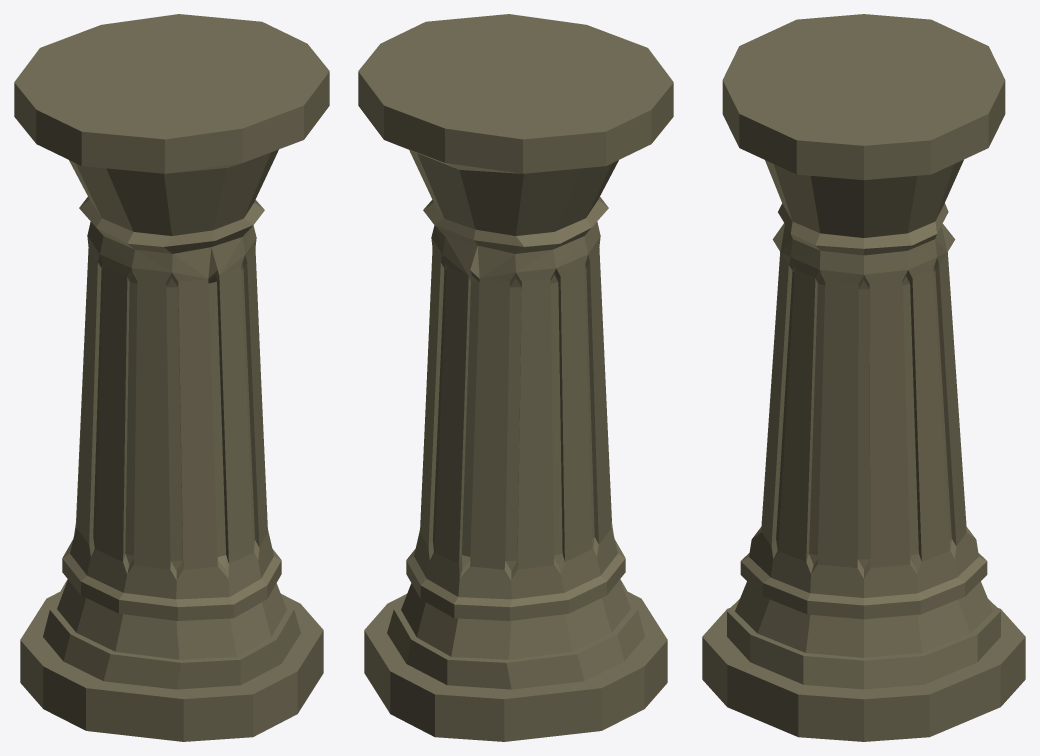
The model's file is Pillar.obj.
The picture shows the model from 3 angles, left to right: view 1: azimuth 30°, elevation 25°; view 2: azimuth 150°, elevation 25°; view 3: azimuth 270°, elevation 25°; orthographic projection.
Parts seen in each view (by area): view 1: Circle; view 2: Circle; view 3: Circle.
Boxes of the visible parts, x1,y1,x2,y2 form: Circle: (14, 14, 329, 741); Circle: (358, 14, 673, 741); Circle: (702, 14, 1025, 741).
Bounding box in the file's own units: 1.58 × 3.35 × 1.64.
